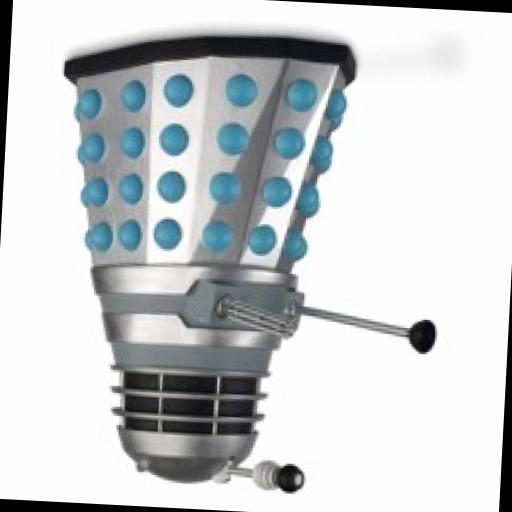dalek: (35, 30, 466, 512)
